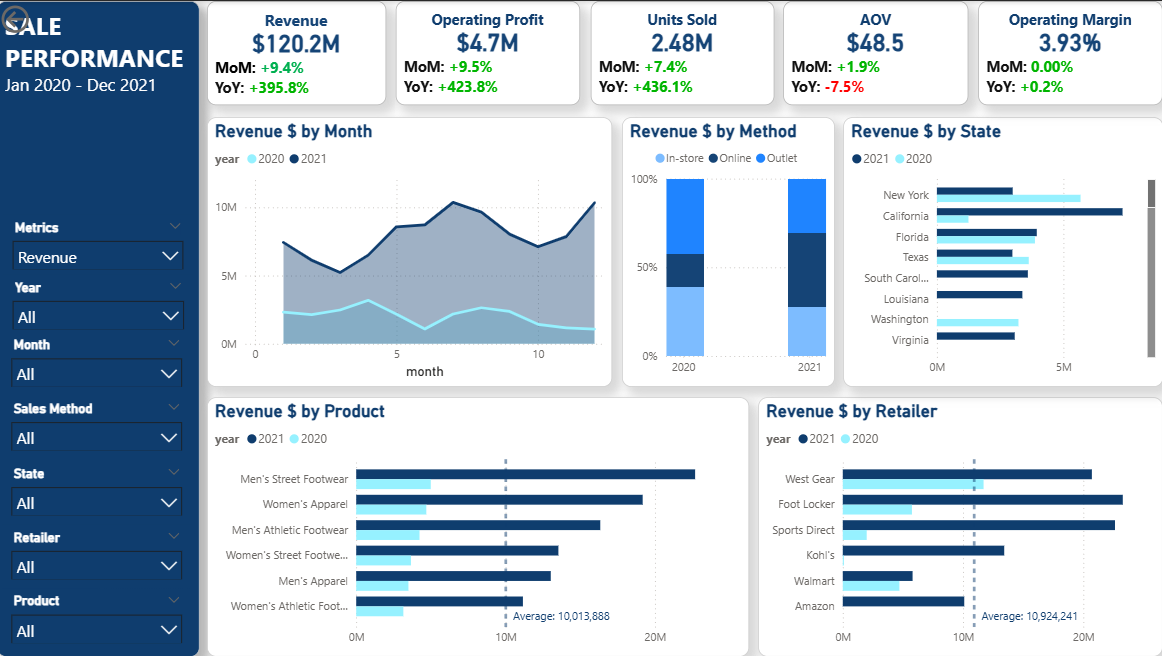

Layout of this report page (visuals, bound fields, positions):
{"tool":"powerbi","page":{"name":" OVERVIEW","canvas":[1280,720],"ordinal":0},"visuals":[{"type":"textbox","box":[0,0,1280.3,70],"z":0},{"type":"cardVisual","fields":{"Data":["Sum(public business_metrics.current_profit)"]},"box":[169.2,180.4,159.2,135.6],"z":1000},{"type":"clusteredBarChart","title":"Metrics by Product","fields":{"Y":["public gold_adidas_sales.revenue"],"Category":["public dim_product.product_name"]},"box":[736.4,465.2,543.6,255],"z":2000},{"type":"lineClusteredColumnComboChart","title":"Metrics by Month","fields":{"Y":["public gold_adidas_sales.revenue"],"Y2":["Avg(public gold_adidas_sales.operating_margin)"],"Category":["public dim_date.month"]},"box":[346.4,178.2,605.8,270.8],"z":3000},{"type":"donutChart","title":"Metrics by Sales Method","fields":{"Y":["public gold_adidas_sales.revenue"],"Category":["public gold_adidas_sales.sales_method"]},"box":[0,465.2,328.4,255],"z":4000},{"type":"cardVisual","title":"Revenue","fields":{"Data":["Sum(public business_metrics.current_revenue)"]},"box":[0,177.9,160.5,135.6],"z":5000},{"type":"clusteredColumnChart","title":"Metrics by Retailer","fields":{"Y":["public gold_adidas_sales.revenue"],"Category":["public dim_retailer.retailer_name"]},"box":[965.3,79.6,314.7,369.5],"z":6000},{"type":"slicer","fields":{"Values":["Metrics.Metrics"]},"box":[965,0,144,69.8],"z":7000},{"type":"cardVisual","fields":{"Data":["Sum(public business_metrics.current_margin_percent)"]},"box":[169.2,316,159.2,139.3],"z":8000},{"type":"cardVisual","fields":{"Data":["Sum(public business_metrics.current_units)"]},"box":[0,316,160.5,139.3],"z":9000},{"type":"filledMap","title":"Metrics by State","fields":{"Category":["public dim_location.state"]},"box":[345.8,465.2,376.9,255],"z":10000},{"type":"slicer","fields":{"Values":["public dim_location.state"]},"box":[1127.5,0,136.8,69.8],"z":11000},{"type":"shape","box":[0,79.8,952.2,88.4],"z":12000},{"type":"pageNavigator","box":[37.1,96.9,876.6,54.2],"z":13000},{"type":"slicer","fields":{"Values":["public dim_date.year"]},"box":[678.5,0,119.7,69.8],"z":14000},{"type":"slicer","fields":{"Values":["public dim_date.month"]},"box":[821,0,119.7,69.8],"z":15000}]}

Visuals, with their boxes in screenshot pixels (x1, y1, x2, y2), scaled from the page's 1280x720 canvas onto the 1162x656 screenshot:
textbox: 0 0 1161 64
cardVisual - Sum(public business_metrics.current_profit): 154 164 298 288
"Metrics by Product" clusteredBarChart: 669 424 1161 655
"Metrics by Month" lineClusteredColumnComboChart: 314 162 864 409
"Metrics by Sales Method" donutChart: 0 424 298 655
"Revenue" cardVisual: 0 162 146 286
"Metrics by Retailer" clusteredColumnChart: 876 73 1161 409
slicer - Metrics.Metrics: 876 0 1007 64
cardVisual - Sum(public business_metrics.current_margin_percent): 154 288 298 415
cardVisual - Sum(public business_metrics.current_units): 0 288 146 415
"Metrics by State" filledMap: 314 424 656 655
slicer - public dim_location.state: 1024 0 1148 64
shape: 0 73 864 153
pageNavigator: 34 88 829 138
slicer - public dim_date.year: 616 0 725 64
slicer - public dim_date.month: 745 0 854 64
